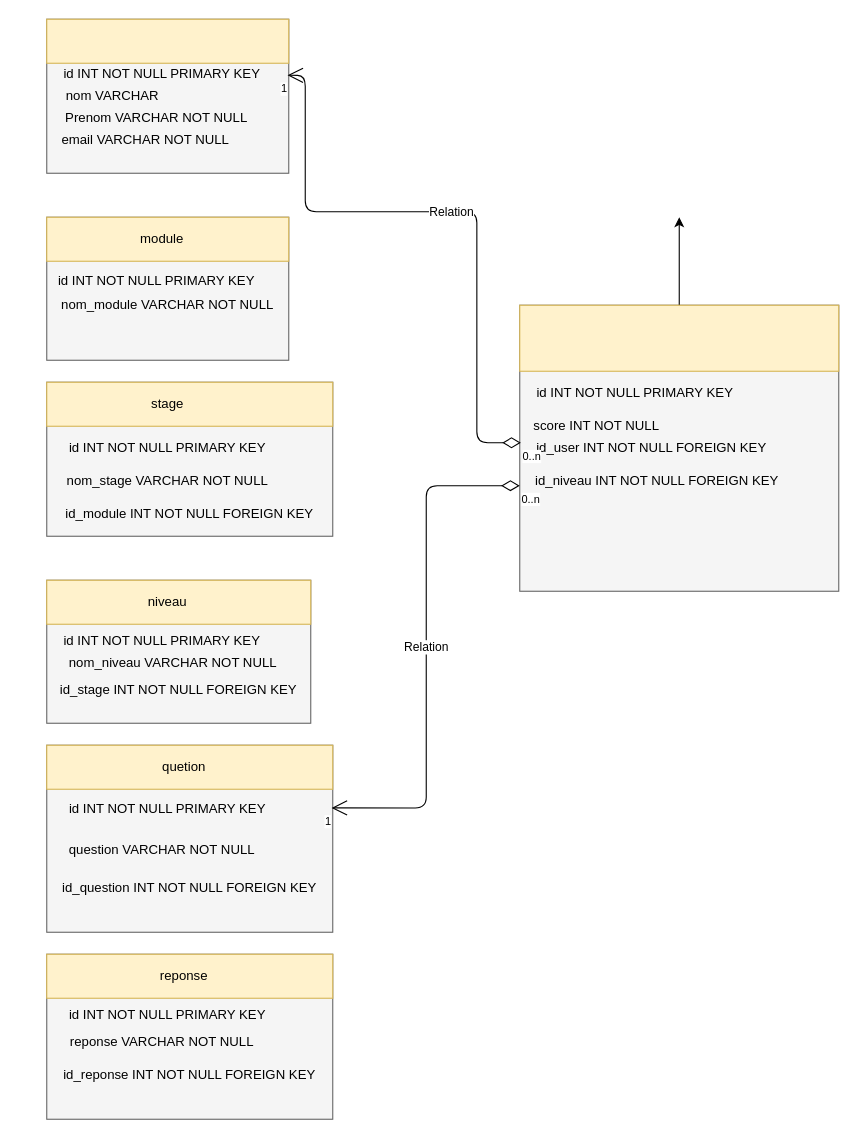
The diagram is 858 pixels wide and 1139 high, and some of its shapes have lost their labels. The box of each missing label's shape, as (x1, y1, x2, y2) in pixels:
score: (519, 304, 839, 371)
user: (46, 18, 289, 63)
